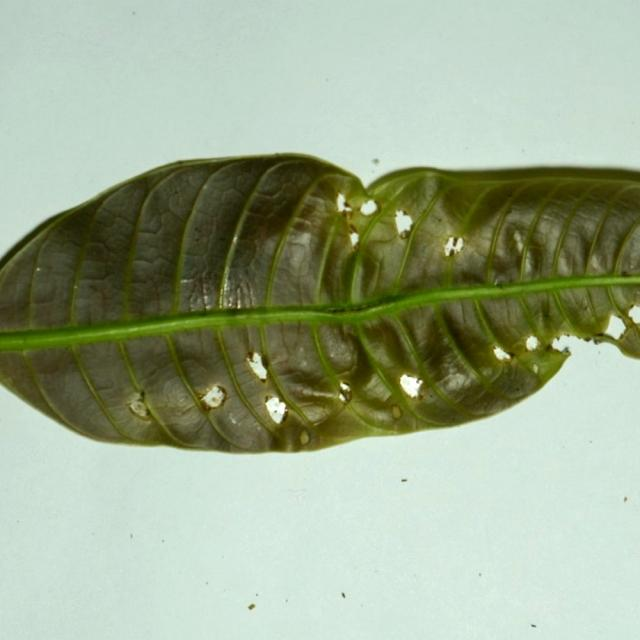Anthracnose: (287, 380, 402, 447), (0, 322, 66, 423), (423, 164, 638, 194), (365, 173, 447, 250), (438, 305, 502, 371), (206, 151, 346, 181), (366, 166, 461, 197), (5, 319, 73, 353), (588, 320, 639, 361), (316, 319, 355, 370), (512, 342, 566, 378), (342, 243, 371, 300), (274, 421, 320, 451), (348, 194, 386, 227), (165, 183, 198, 218), (520, 234, 547, 275), (219, 269, 239, 308), (458, 269, 495, 290), (590, 315, 614, 336), (267, 354, 287, 367), (323, 306, 347, 315), (340, 391, 352, 406), (137, 409, 152, 421), (200, 401, 213, 414), (627, 304, 638, 318), (622, 271, 635, 282), (343, 207, 353, 220), (542, 308, 552, 320), (546, 343, 558, 353), (179, 278, 193, 285), (560, 332, 572, 340), (561, 346, 571, 355), (343, 201, 352, 211), (138, 390, 146, 400), (583, 336, 593, 343), (418, 393, 425, 401), (73, 284, 78, 290)
Mango: (0, 156, 639, 456)
